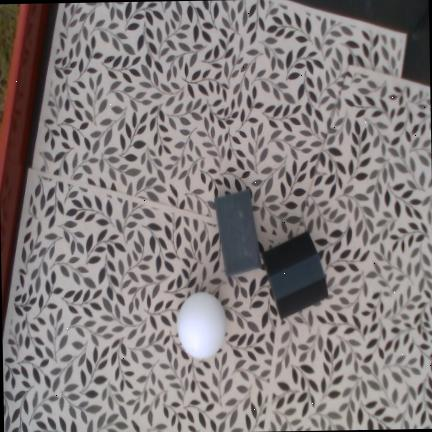Esfera: (177, 292, 225, 359)
Paralelepipedo: (215, 188, 261, 276)
Prisma_hexagonal: (262, 231, 328, 319)
